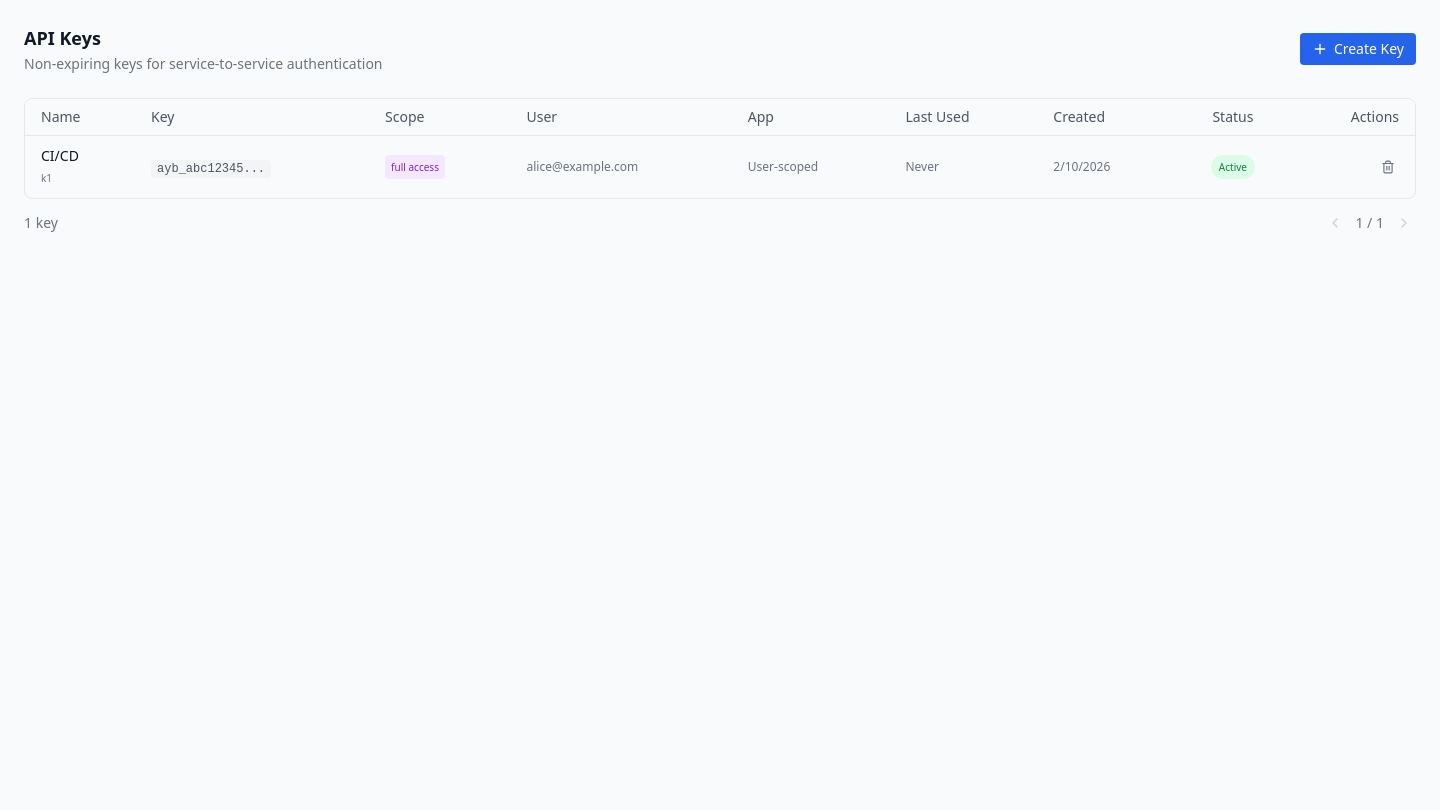
Scenario: ApiKeys › create button opens create modal
The width and height of the screenshot is (1440, 810).
Expected: the text "CI/CD" is shown, [41,146,79,165]
Click the button "Create Key" at (1358, 49), box [1300,33,1416,65]
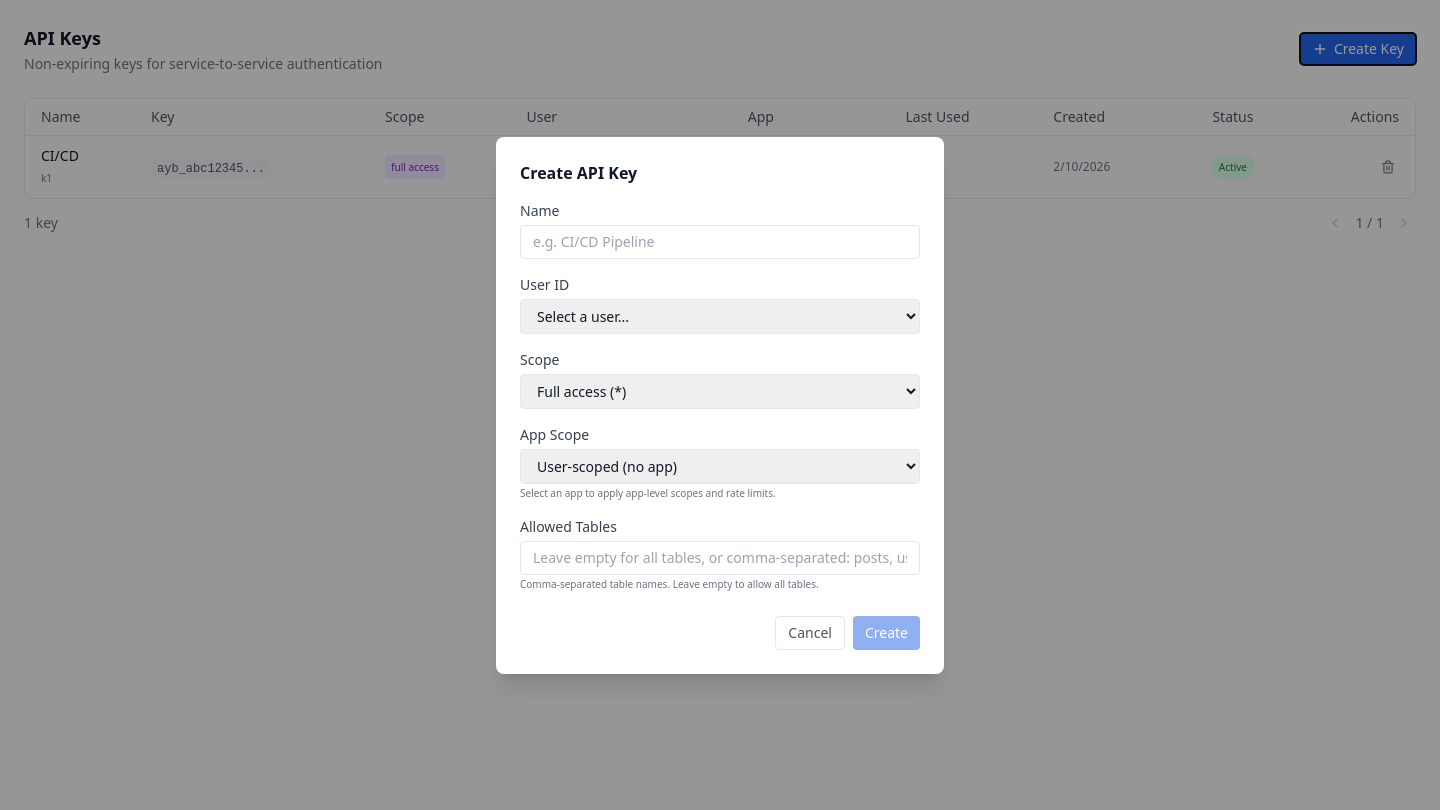
Result: the heading "Create API Key" is shown at [520,162,637,184]
Result: the field named "Key name" is shown at [520,224,920,258]
